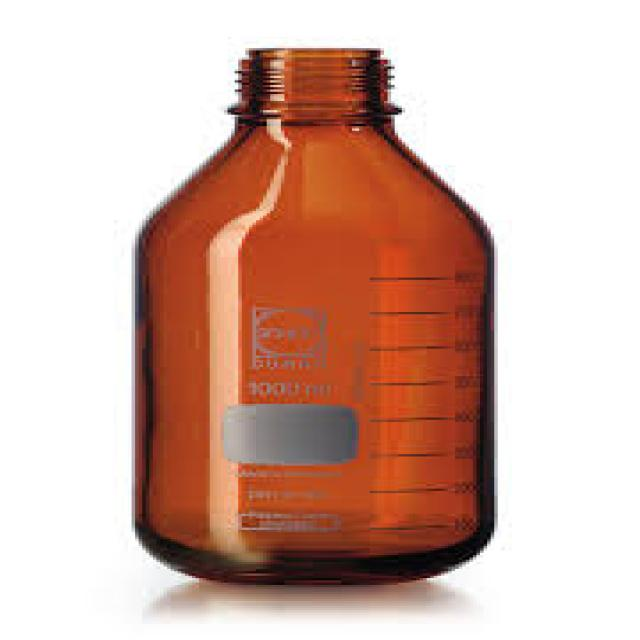glass: (128, 46, 494, 580)
